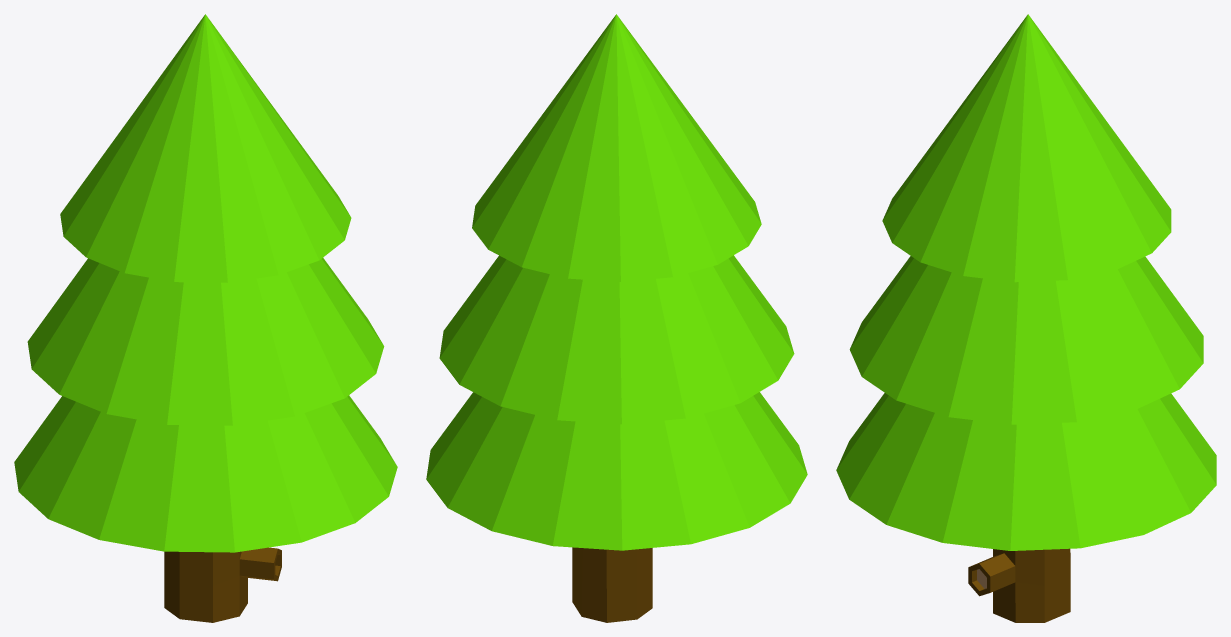
File: Pine_Tree_2.fbx
3 renders of one model, left to right at view 1: azimuth 30°, elevation 25°; view 2: azimuth 150°, elevation 25°; view 3: azimuth 270°, elevation 25°, orthographic.
Visible parts, largest first — view 1: Pine Tree 2; view 2: Pine Tree 2; view 3: Pine Tree 2.
Part boxes in pixels (x1,y1,x2,y2): Pine Tree 2: (14, 14, 397, 622); Pine Tree 2: (426, 14, 807, 622); Pine Tree 2: (836, 14, 1216, 622).
Bounding box in the file's own units: 213 × 364 × 212.
